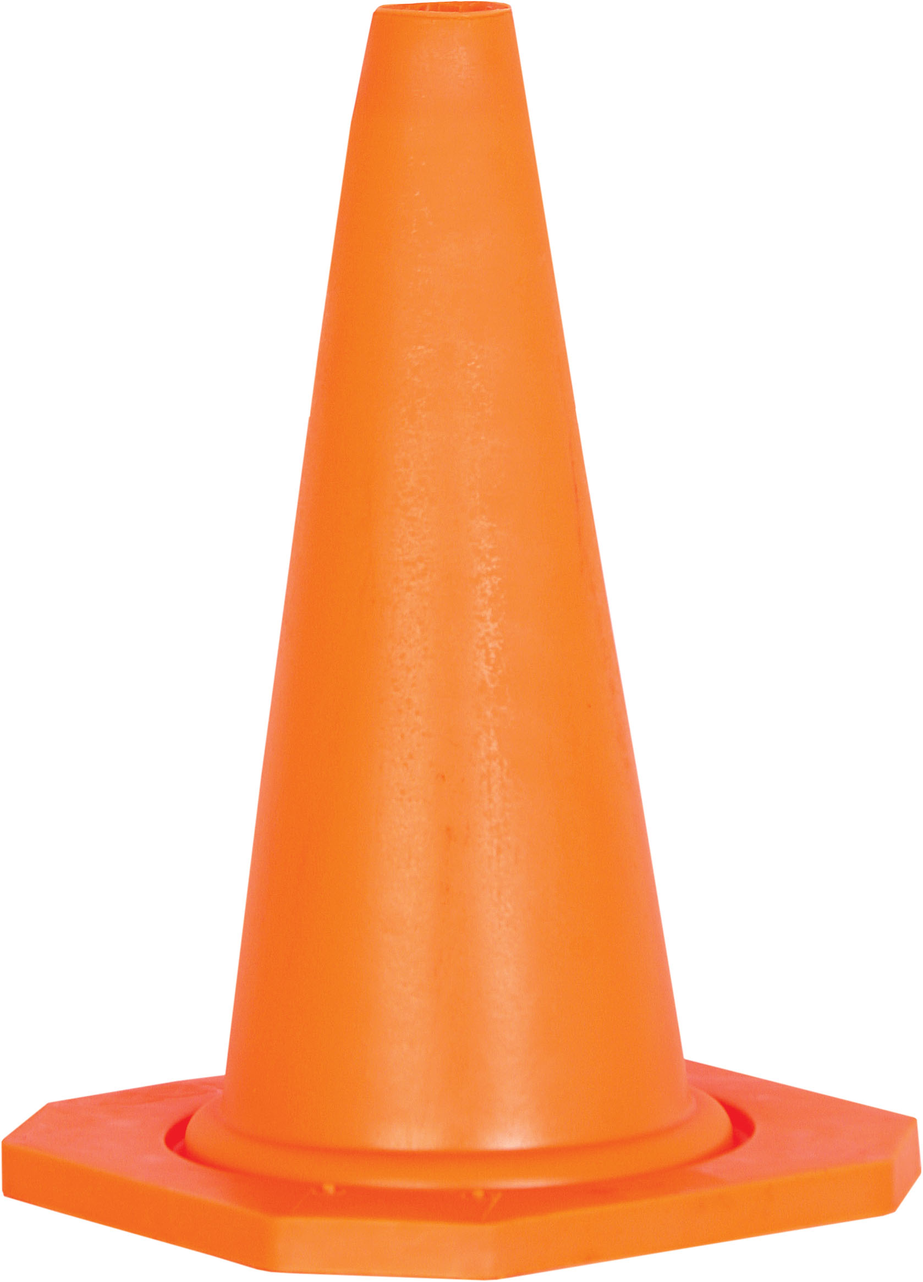Road_cone: (28, 8, 910, 1252)
